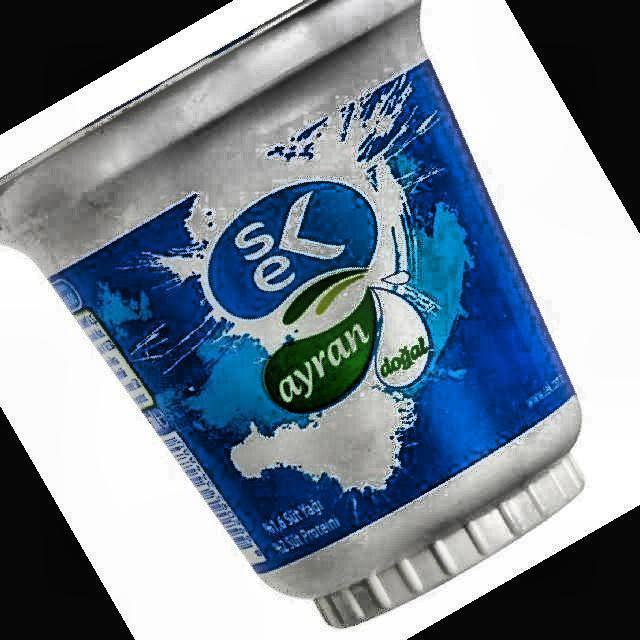plastic: (0, 0, 582, 627)
